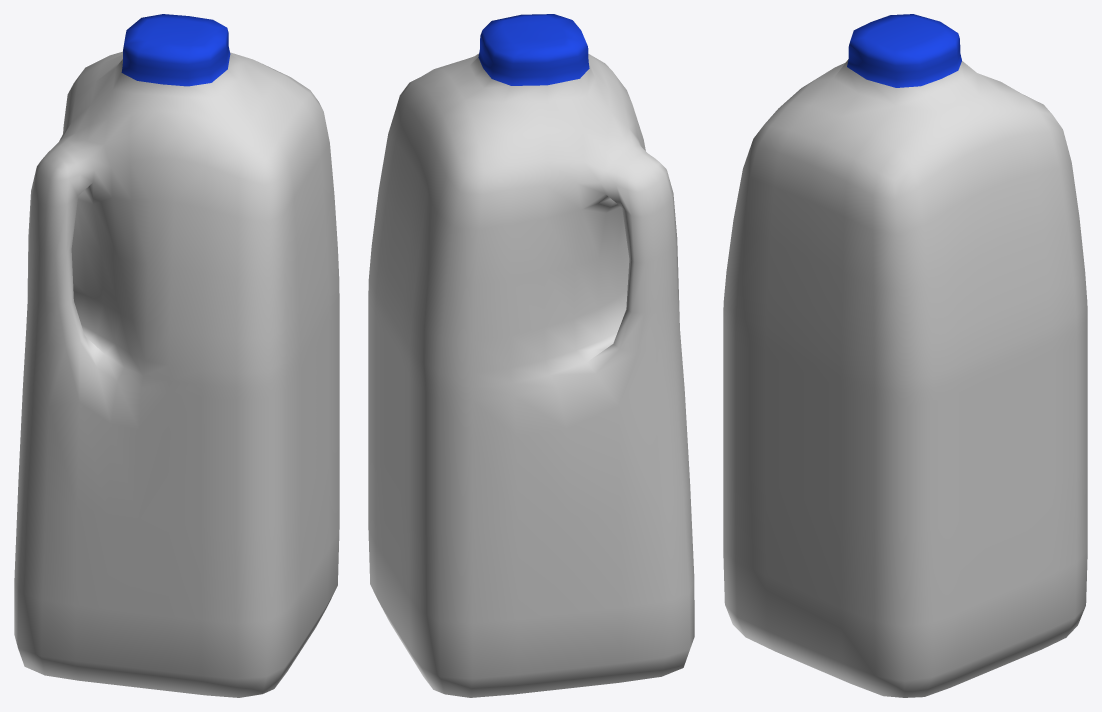
The model's file is Milk.fbx.
3 views of the same model, side by side, from view 1: azimuth 30°, elevation 25°; view 2: azimuth 150°, elevation 25°; view 3: azimuth 270°, elevation 25° (orthographic).
Visible parts, largest first — view 1: MIlkBUllet; view 2: MIlkBUllet; view 3: MIlkBUllet.
Part boxes in pixels (x1,y1,x2,y2): MIlkBUllet: (14, 14, 339, 697); MIlkBUllet: (368, 14, 694, 697); MIlkBUllet: (723, 14, 1087, 697).
Size of the model in its own units: 255 by 470 by 256.
